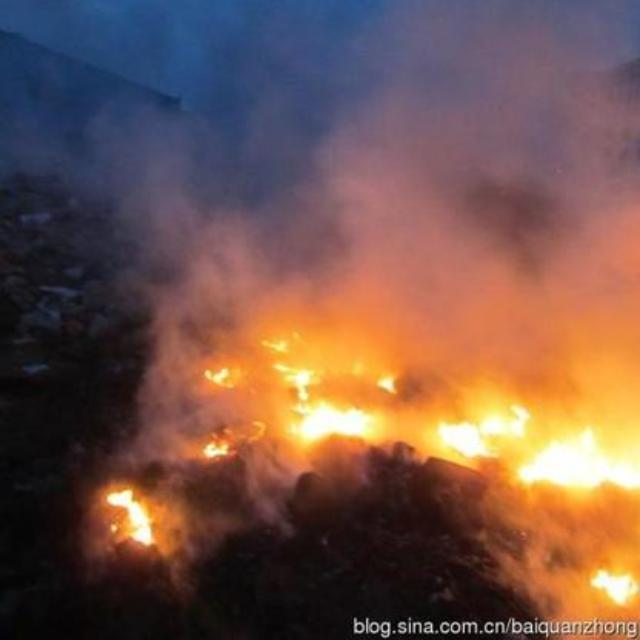Fire: (268, 322, 640, 503), (101, 487, 159, 549), (195, 342, 247, 404), (598, 558, 640, 608), (196, 434, 230, 456)
Smoke: (0, 0, 640, 306), (483, 506, 601, 632), (120, 312, 193, 478), (167, 478, 257, 594)
